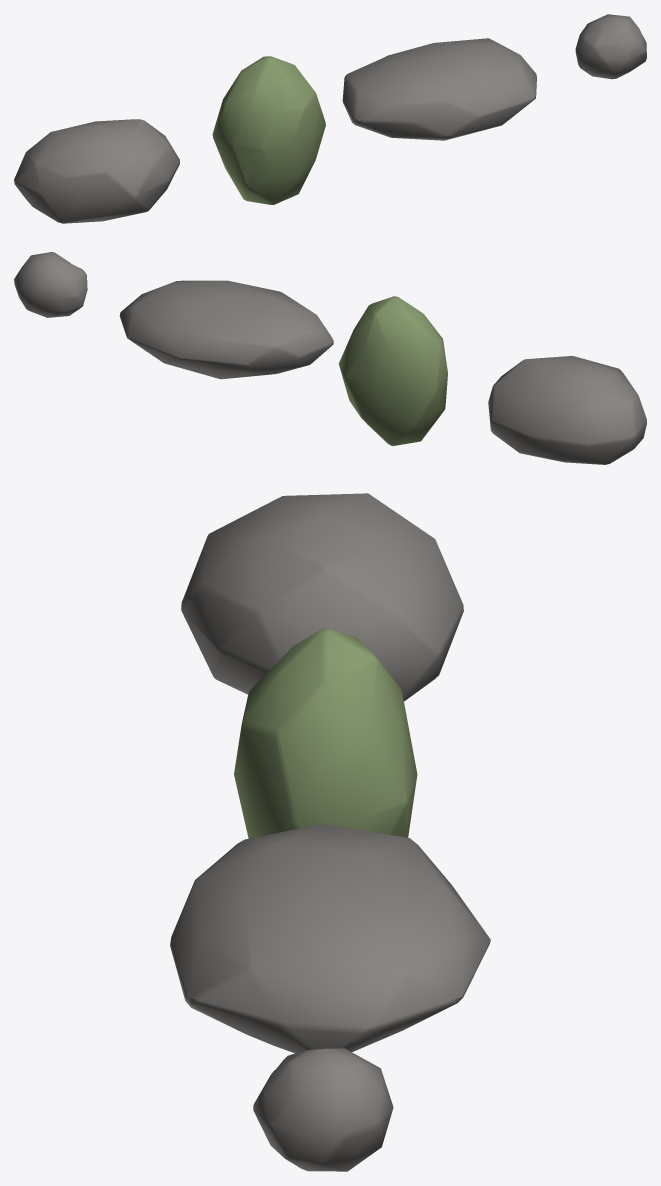
File: LL_Rocks_Set.fbx
The picture shows the model from 3 angles, top to bottom: view 1: azimuth 30°, elevation 25°; view 2: azimuth 150°, elevation 25°; view 3: azimuth 270°, elevation 25°; orthographic projection. The views are drawn at different scales.
Parts seen in each view (by area): view 1: LL_Rock_03, LL_Rock_01, LL_Rock_02, LL_Rock_04; view 2: LL_Rock_03, LL_Rock_01, LL_Rock_02, LL_Rock_04; view 3: LL_Rock_03, LL_Rock_01, LL_Rock_02, LL_Rock_04.
Boxes of the visible parts, bbox=[...] form: LL_Rock_03: bbox=[342, 38, 536, 140]; LL_Rock_01: bbox=[14, 119, 179, 223]; LL_Rock_02: bbox=[212, 56, 325, 205]; LL_Rock_04: bbox=[575, 14, 646, 79]; LL_Rock_03: bbox=[119, 280, 333, 379]; LL_Rock_01: bbox=[488, 356, 646, 464]; LL_Rock_02: bbox=[339, 296, 447, 446]; LL_Rock_04: bbox=[14, 252, 87, 317]; LL_Rock_03: bbox=[170, 824, 490, 1053]; LL_Rock_01: bbox=[181, 493, 463, 701]; LL_Rock_02: bbox=[234, 628, 417, 838]; LL_Rock_04: bbox=[253, 1048, 393, 1171].
Size of the model in its own units: 12.68 by 2.7 by 2.85.
